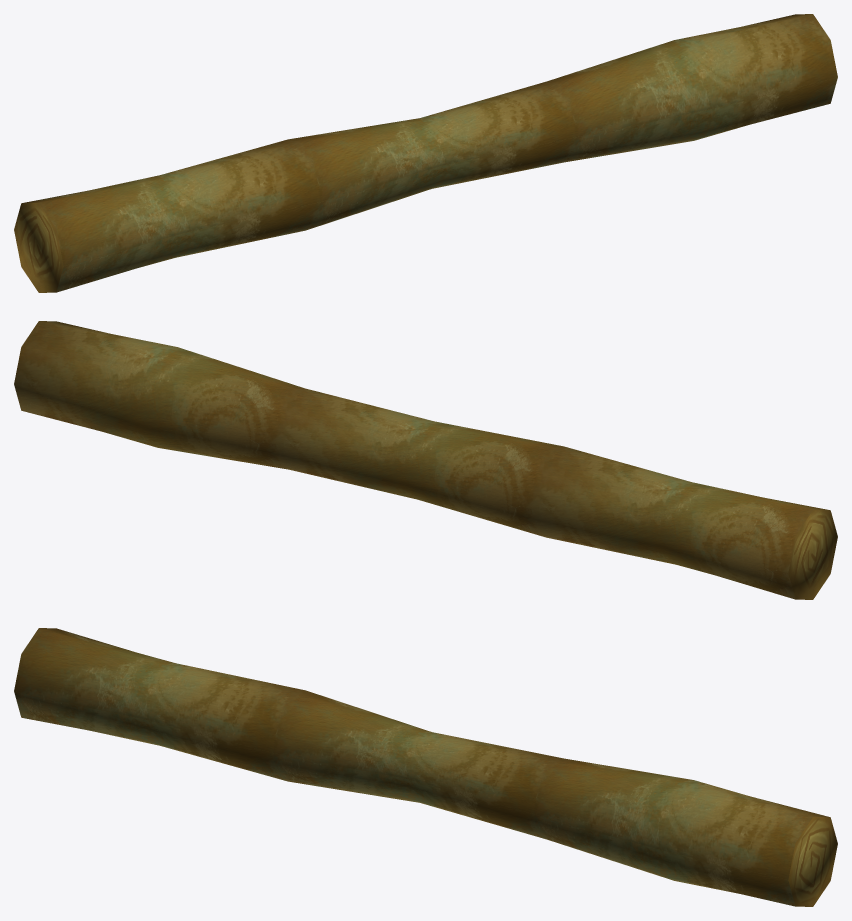
The model's file is Waterfall_Log_Large.fbx.
The picture shows the model from 3 angles, top to bottom: view 1: azimuth 30°, elevation 25°; view 2: azimuth 150°, elevation 25°; view 3: azimuth 330°, elevation 25°; orthographic projection.
Visible parts, largest first — view 1: pCylinder9; view 2: pCylinder9; view 3: pCylinder9.
Part boxes in pixels (bbox=[...]): pCylinder9: bbox=[14, 14, 837, 292]; pCylinder9: bbox=[14, 321, 837, 599]; pCylinder9: bbox=[14, 628, 837, 906].
Size of the model in its own units: 18 by 2.08 by 2.08.
Materials: 1 (1 with a texture image).
